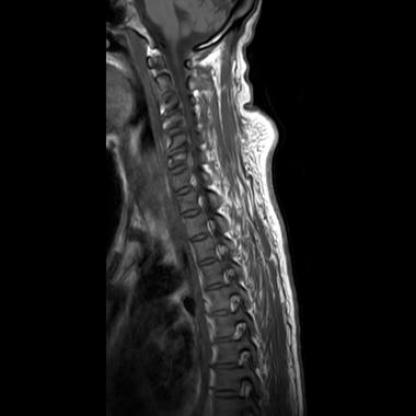Disc Protrusionrotation: (159, 109, 185, 123)
